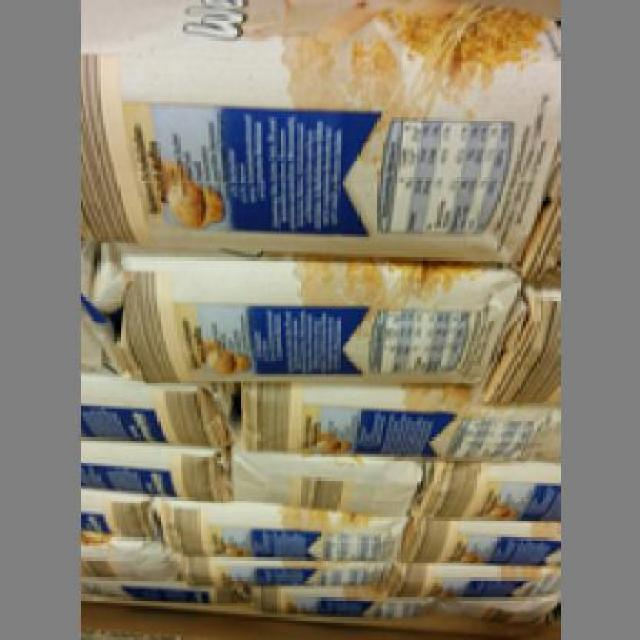Flour: (76, 0, 552, 257), (77, 248, 517, 392), (225, 385, 458, 458)
